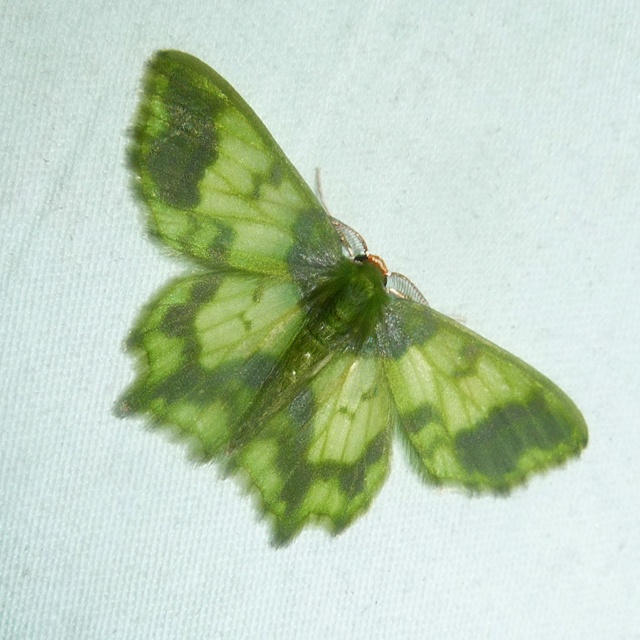Butterfly: (107, 50, 590, 546)
